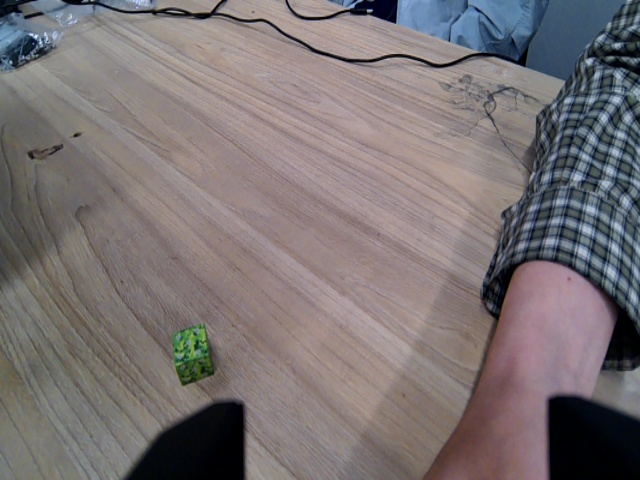grass: (168, 321, 219, 388)
